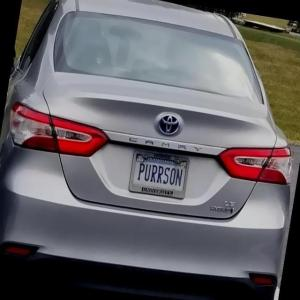Plate: (128, 150, 191, 200)
